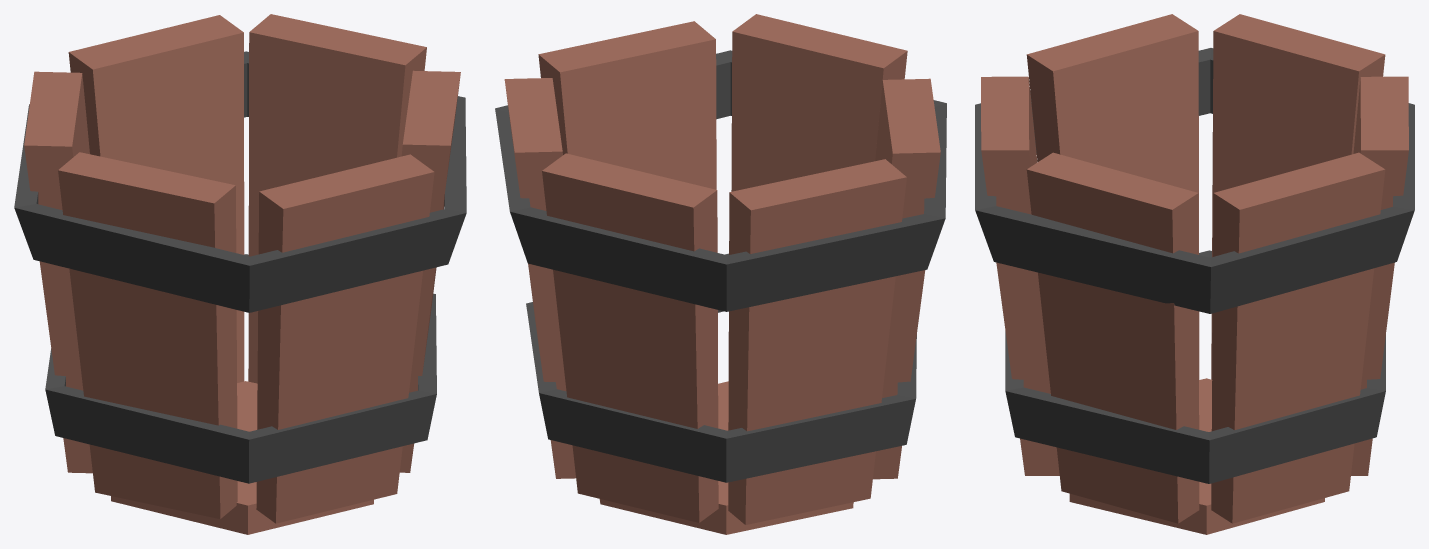
File: Bucket.gltf
The picture shows the model from 3 angles, left to right: view 1: azimuth 30°, elevation 25°; view 2: azimuth 150°, elevation 25°; view 3: azimuth 270°, elevation 25°; orthographic projection.
Parts seen in each view (by area): view 1: Bucket; view 2: Bucket; view 3: Bucket.
Part boxes in pixels (box(x1,y1,x2,y2)): Bucket: box(14, 14, 466, 534); Bucket: box(495, 14, 946, 534); Bucket: box(975, 14, 1414, 534).
Bounding box in the file's own units: 0.6403 × 0.489 × 0.5423.
